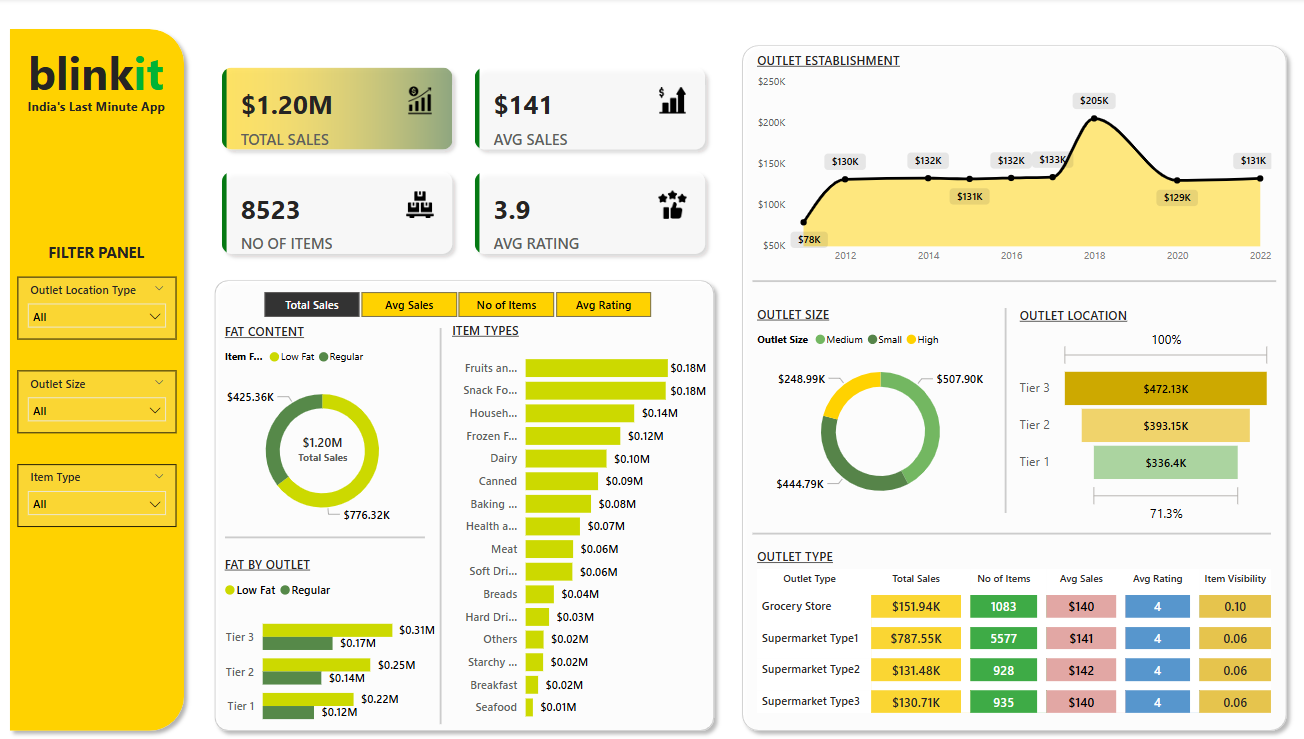

This screenshot's page, from the dashboard's own definition file:
{"tool":"powerbi","page":{"name":"Page 1","canvas":[1400,800],"ordinal":0},"visuals":[{"type":"shape","box":[1.3,24.1,205.1,770.8],"z":0},{"type":"textbox","box":[17.4,41.6,170.2,77.7],"z":1000},{"type":"textbox","box":[10.7,101.9,185,34.9],"z":2000},{"type":"cardVisual","fields":{"Data":["BlinkIT Grocery Data.Total Sales","BlinkIT Grocery Data.Avg Sales","BlinkIT Grocery Data.No of Items","BlinkIT Grocery Data.Avg Rating"]},"box":[221.2,57.6,553.6,235.9],"z":3000},{"type":"shape","box":[221.2,293.6,553.6,501.3],"z":4000},{"type":"donutChart","title":"FAT CONTENT","fields":{"Y":["BlinkIT Grocery Data.Total Sales"],"Category":["BlinkIT Grocery Data.Item Fat Content"]},"box":[235.9,348.5,219.8,229.2],"z":5000},{"type":"slicer","fields":{"Values":["Metrics.Metrics"]},"box":[257.4,308.3,465.1,40.2],"z":6000},{"type":"cardVisual","fields":{"Data":["BlinkIT Grocery Data.Total Sales"]},"box":[297.6,450.4,97.9,63],"z":7000},{"type":"clusteredBarChart","title":"FAT BY OUTLET","fields":{"Category":["BlinkIT Grocery Data.Outlet Location Type"],"Y":["Sum(BlinkIT Grocery Data.Sales)"],"Series":["BlinkIT Grocery Data.Item Fat Content"]},"box":[235.9,597.9,235.9,197.1],"z":8000},{"type":"shape","box":[241.3,567,214.5,22.8],"z":9000},{"type":"shape","box":[465.1,353.9,14.7,424.9],"z":10000},{"type":"barChart","title":"ITEM TYPES","fields":{"Y":["BlinkIT Grocery Data.Total Sales"],"Category":["BlinkIT Grocery Data.Item Type"]},"box":[479.9,347.2,282.8,438.3],"z":11000},{"type":"shape","box":[786.9,41.6,601.9,753.4],"z":12000},{"type":"lineChart","title":"OUTLET ESTABLISHMENT","fields":{"Category":["BlinkIT Grocery Data.Outlet Establishment Year"],"Y":["BlinkIT Grocery Data.Total Sales"]},"box":[807,57.6,561.7,235.9],"z":13000},{"type":"shape","box":[807,293.6,561.7,20.1],"z":14000},{"type":"donutChart","title":"OUTLET SIZE","fields":{"Y":["BlinkIT Grocery Data.Total Sales"],"Category":["BlinkIT Grocery Data.Outlet Size"]},"box":[807,329.8,274.8,225.2],"z":15000},{"type":"shape","box":[1073.7,332.4,9.4,219.8],"z":16000},{"type":"funnel","title":"OUTLET LOCATION","fields":{"Y":["Sum(BlinkIT Grocery Data.Sales)"],"Category":["BlinkIT Grocery Data.Outlet Location Type"]},"box":[1088.5,331.1,280.2,237.3],"z":17000},{"type":"shape","box":[807,567,556.3,14.7],"z":18000},{"type":"pivotTable","title":"OUTLET TYPE","fields":{"Rows":["BlinkIT Grocery Data.Outlet Type"],"Values":["BlinkIT Grocery Data.Total Sales","BlinkIT Grocery Data.No of Items","BlinkIT Grocery Data.Avg Sales","BlinkIT Grocery Data.Avg Rating","Avg(BlinkIT Grocery Data.Item Visibility)"]},"box":[807,589.8,561.7,191.7],"z":19000},{"type":"slicer","fields":{"Values":["BlinkIT Grocery Data.Outlet Location Type"]},"box":[18.8,298.9,170.2,67],"z":20000},{"type":"slicer","fields":{"Values":["BlinkIT Grocery Data.Outlet Size"]},"box":[18.8,399.5,170.2,67],"z":21000},{"type":"slicer","fields":{"Values":["BlinkIT Grocery Data.Item Type"]},"box":[18.8,500,170.2,67],"z":22000},{"type":"textbox","box":[33.5,256,139.4,37.5],"z":23000}]}

Visuals, with their boxes in screenshot pixels (x1, y1, x2, y2), scaled from the page's 1400x800 canvas onto the 1304x739 screenshot:
shape: <box>1,22,192,734</box>
textbox: <box>16,38,175,110</box>
textbox: <box>10,94,182,126</box>
cardVisual - BlinkIT Grocery Data.Total Sales x BlinkIT Grocery Data.Avg Sales: <box>206,53,722,271</box>
shape: <box>206,271,722,734</box>
"FAT CONTENT" donutChart: <box>220,322,424,534</box>
slicer - Metrics.Metrics: <box>240,285,673,322</box>
cardVisual - BlinkIT Grocery Data.Total Sales: <box>277,416,368,474</box>
"FAT BY OUTLET" clusteredBarChart: <box>220,552,439,734</box>
shape: <box>225,524,425,545</box>
shape: <box>433,327,447,719</box>
"ITEM TYPES" barChart: <box>447,321,710,726</box>
shape: <box>733,38,1294,734</box>
"OUTLET ESTABLISHMENT" lineChart: <box>752,53,1275,271</box>
shape: <box>752,271,1275,290</box>
"OUTLET SIZE" donutChart: <box>752,305,1008,513</box>
shape: <box>1000,307,1009,510</box>
"OUTLET LOCATION" funnel: <box>1014,306,1275,525</box>
shape: <box>752,524,1270,537</box>
"OUTLET TYPE" pivotTable: <box>752,545,1275,722</box>
slicer - BlinkIT Grocery Data.Outlet Location Type: <box>18,276,176,338</box>
slicer - BlinkIT Grocery Data.Outlet Size: <box>18,369,176,431</box>
slicer - BlinkIT Grocery Data.Item Type: <box>18,462,176,524</box>
textbox: <box>31,236,161,271</box>
